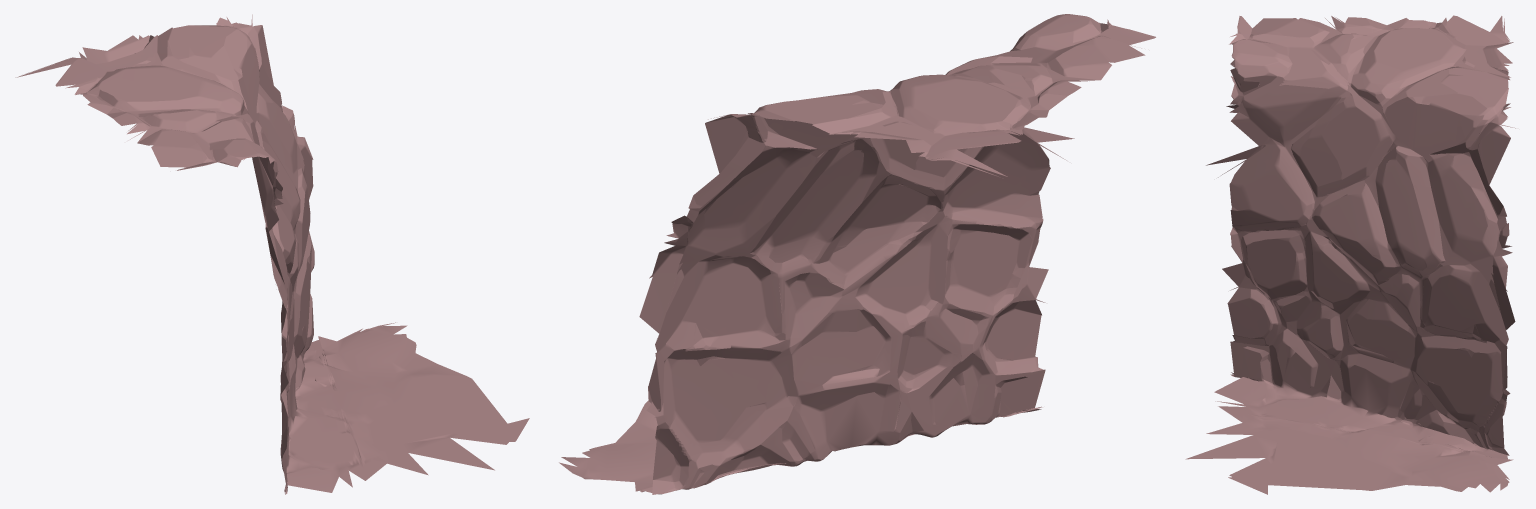
Rendered from cliff_area_2.fbx_Cliff_Area_2_011LODs.fbx.
The picture shows the model from 3 angles, left to right: view 1: azimuth 30°, elevation 25°; view 2: azimuth 150°, elevation 25°; view 3: azimuth 270°, elevation 25°; orthographic projection. The views are drawn at different scales.
Visible parts, largest first — view 1: Cliff Area 2.011_LOD0; view 2: Cliff Area 2.011_LOD0; view 3: Cliff Area 2.011_LOD0.
Boxes of the visible parts, x1,y1,x2,y2 form: Cliff Area 2.011_LOD0: (15, 14, 529, 494); Cliff Area 2.011_LOD0: (559, 14, 1155, 494); Cliff Area 2.011_LOD0: (1185, 15, 1515, 494).
Size of what is drawn, in the model's own units: 4491 by 3880 by 3727.
